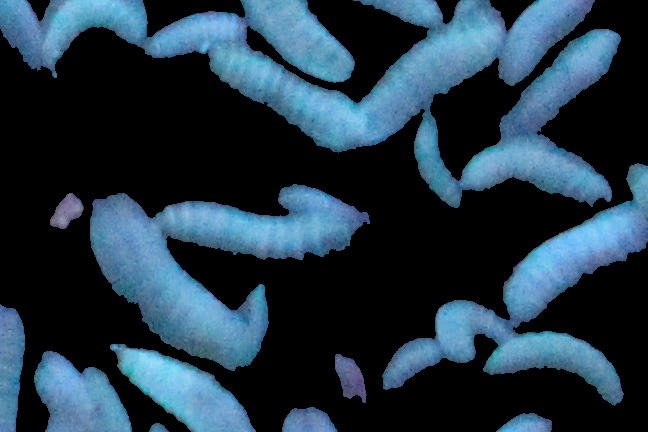larvae: (76, 184, 283, 368), (131, 175, 357, 276), (362, 13, 499, 140), (498, 196, 648, 306), (203, 47, 364, 144), (471, 321, 639, 411), (216, 1, 359, 85), (115, 341, 247, 432), (462, 136, 610, 210), (512, 28, 616, 132), (487, 1, 610, 85), (31, 1, 159, 72), (34, 347, 96, 431), (427, 291, 505, 355), (146, 13, 246, 58), (268, 175, 368, 217), (410, 117, 457, 205), (85, 364, 136, 430), (383, 335, 439, 385)
